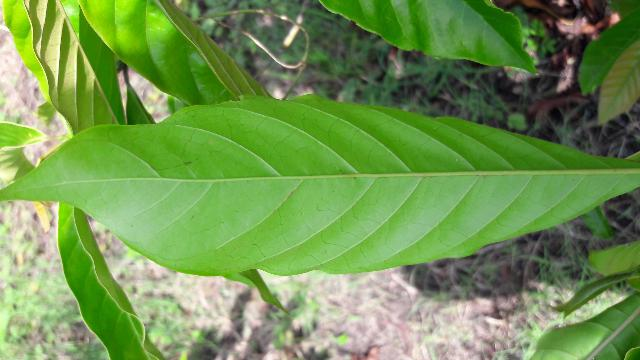healthy: (0, 94, 639, 277)
